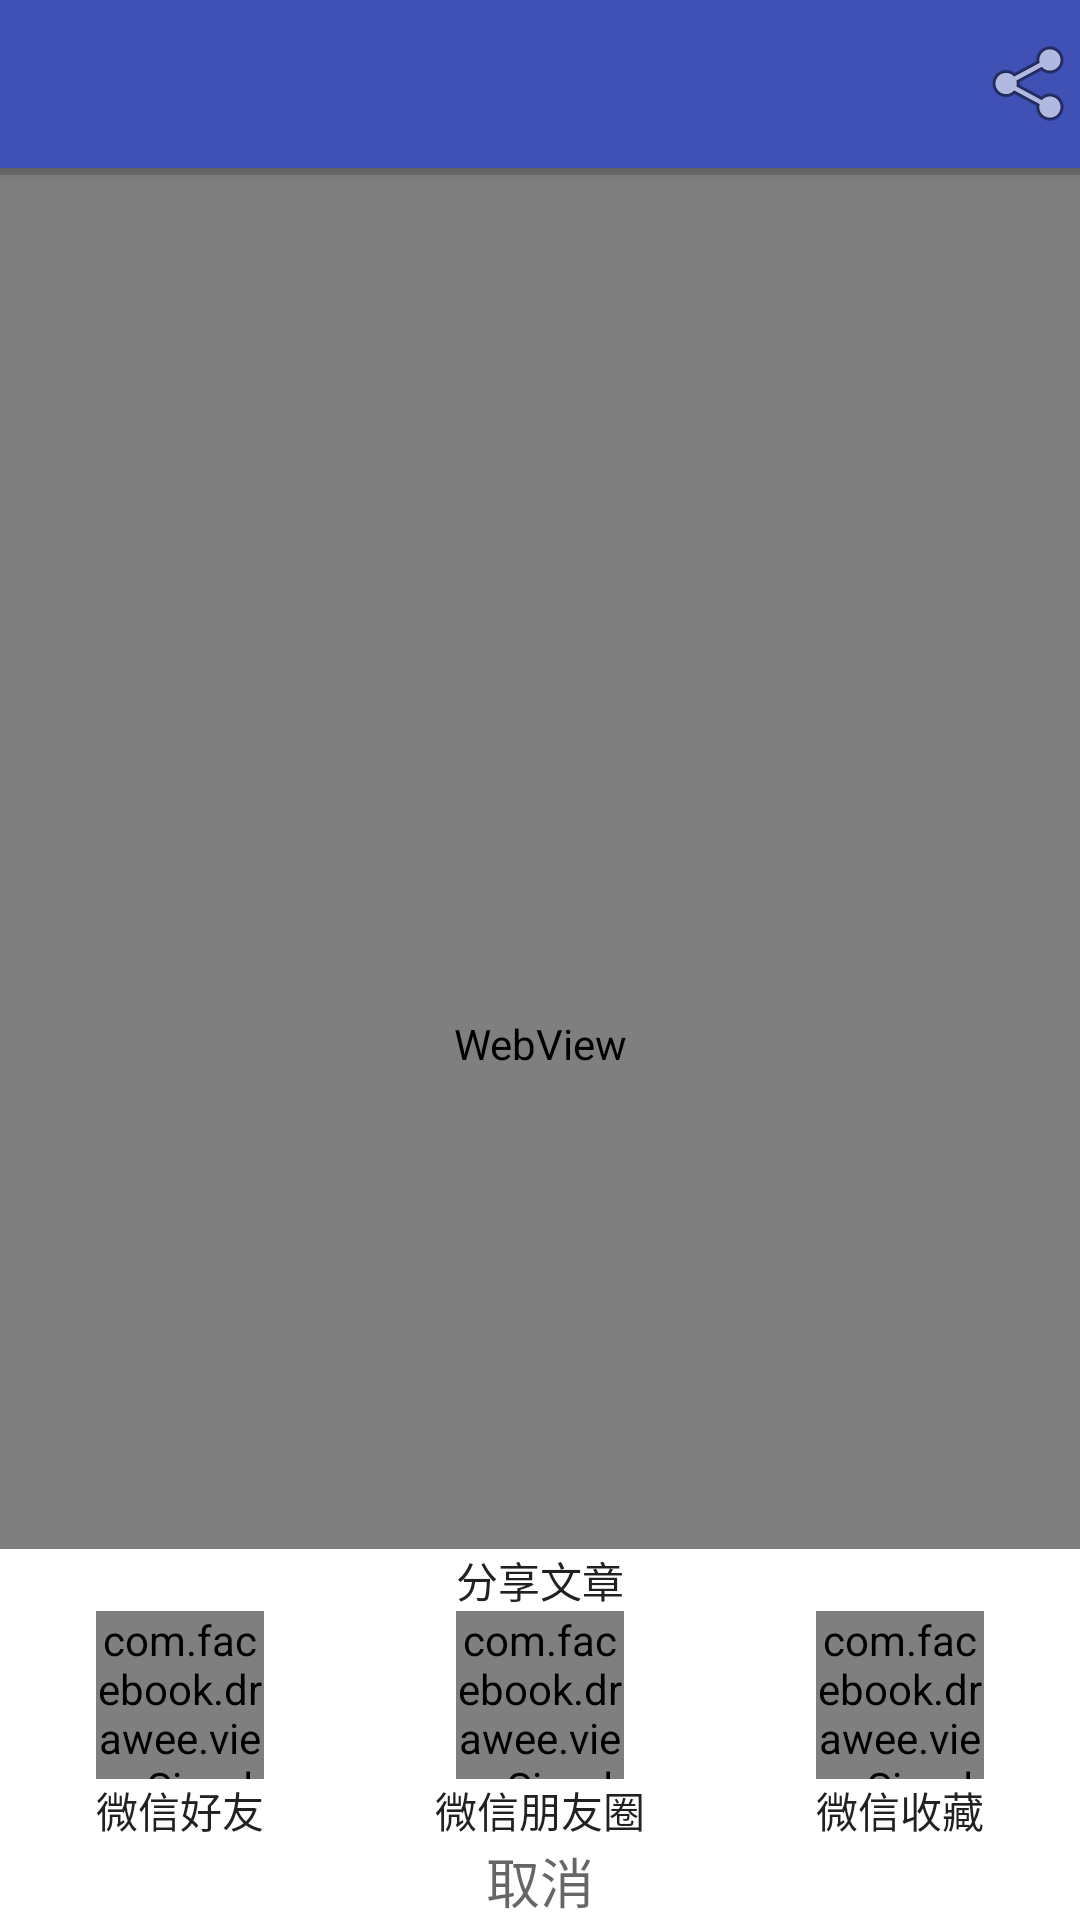

Icons on this 1080 × 1920 Android screen, each with the point to tap as point (x, y):
share: point (1028, 83)
